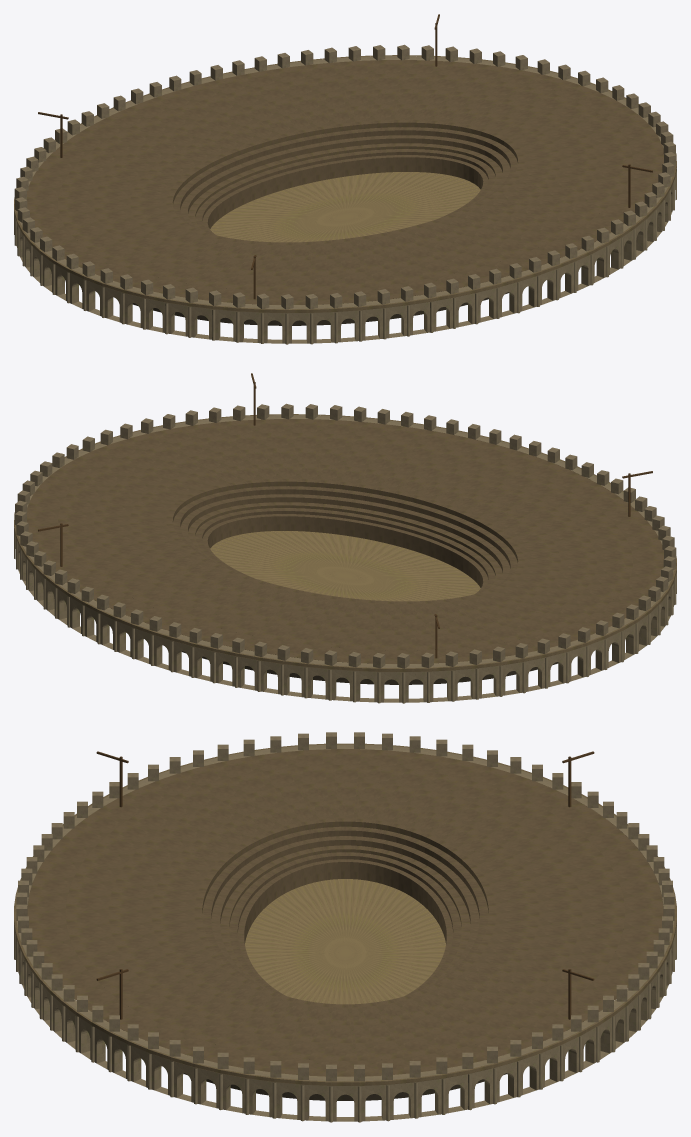
Rendered from colosseum-b30.glb.
3 views of the same model, one above another, from view 1: azimuth 30°, elevation 25°; view 2: azimuth 150°, elevation 25°; view 3: azimuth 270°, elevation 25° (orthographic). The views are drawn at different scales.
Bounding box in the file's own units: 15.19 × 1.88 × 12.56.
8 materials, 8 textured.
